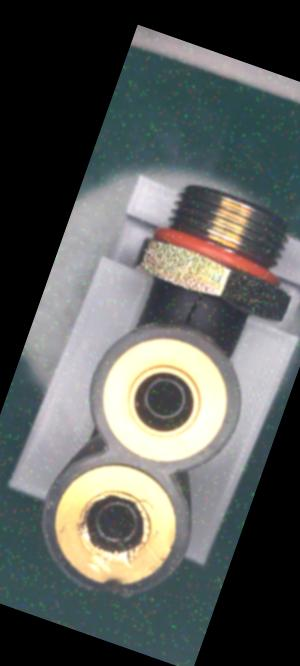bump: (83, 565, 139, 614)
craze: (178, 285, 208, 334)
